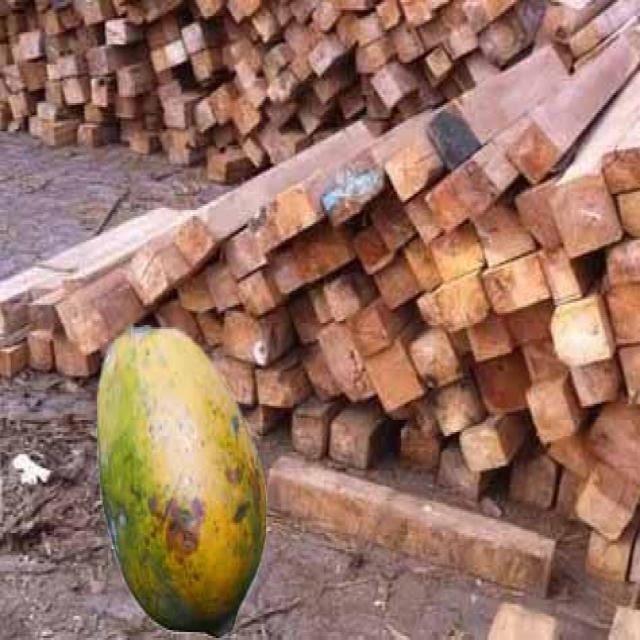Pepaya rippen: (92, 317, 275, 636)
